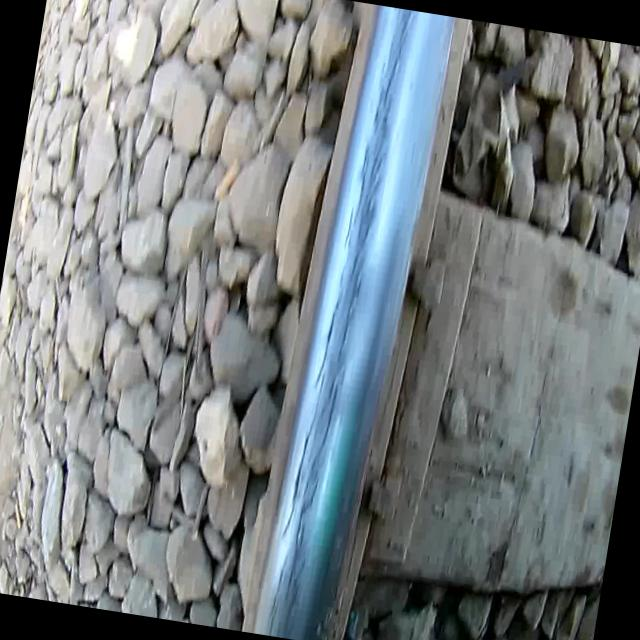Cracks: (260, 2, 417, 640)
